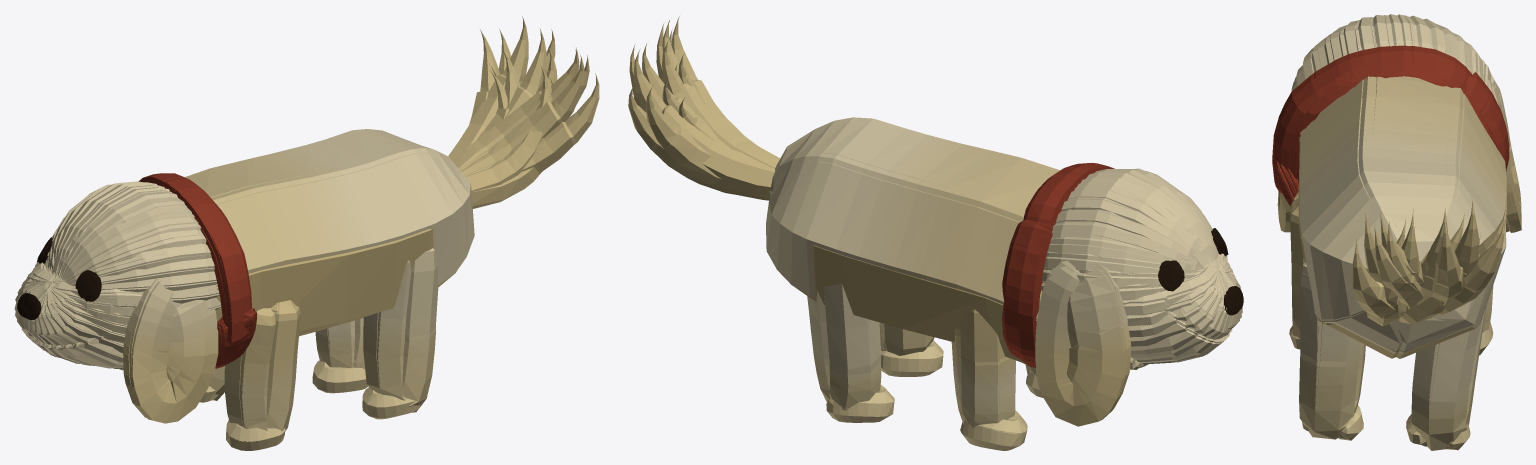
The model's file is Dog_idle.fbx.
3 views of the same model, side by side, from view 1: azimuth 30°, elevation 25°; view 2: azimuth 150°, elevation 25°; view 3: azimuth 270°, elevation 25° (orthographic). The views are drawn at different scales.
Parts seen in each view (by area): view 1: NewLayer1; view 2: NewLayer1; view 3: NewLayer1.
Part boxes in pixels (x1=…): NewLayer1: x1=14, y1=16, x2=599, y2=450; NewLayer1: x1=628, y1=16, x2=1243, y2=450; NewLayer1: x1=1272, y1=14, x2=1521, y2=450.
Size of the model in its own units: 2.61 by 1.41 by 0.9047.
